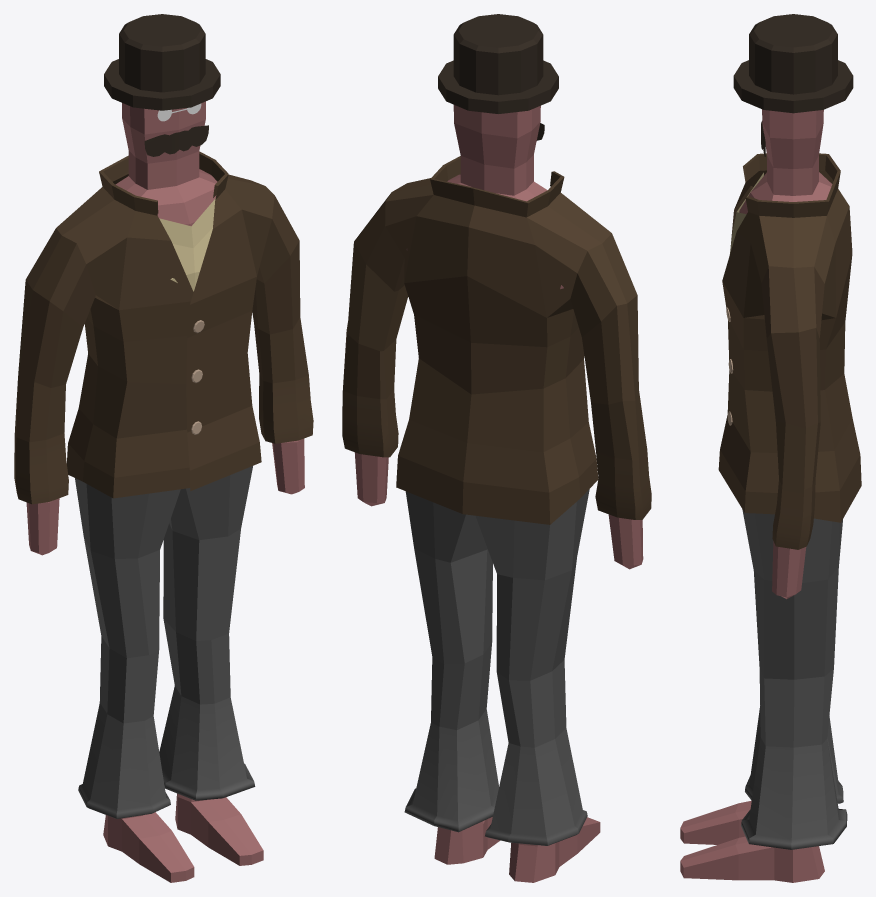
Rendered from CharacterJacketRed.fbx.
3 renders of one model, left to right at view 1: azimuth 30°, elevation 25°; view 2: azimuth 150°, elevation 25°; view 3: azimuth 270°, elevation 25°, orthographic. The views are drawn at different scales.
Visible parts, largest first — view 1: Jacket1, Pants1, BaseMesh1, Hat1, Shirt1, pPlane1; view 2: Jacket1, Pants1, BaseMesh1, Hat1; view 3: Jacket1, Pants1, BaseMesh1, Hat1.
Part boxes in pixels (left/top/right/bottom): Jacket1: left=14, top=151, right=313, bottom=504; Pants1: left=75, top=466, right=255, bottom=818; BaseMesh1: left=26, top=101, right=304, bottom=882; Hat1: left=104, top=14, right=220, bottom=110; Shirt1: left=159, top=198, right=215, bottom=291; pPlane1: left=144, top=125, right=208, bottom=156; Jacket1: left=342, top=156, right=651, bottom=524; Pants1: left=404, top=489, right=589, bottom=845; BaseMesh1: left=354, top=105, right=643, bottom=882; Hat1: left=438, top=14, right=558, bottom=113; Jacket1: left=718, top=153, right=861, bottom=549; Pants1: left=741, top=509, right=847, bottom=849; BaseMesh1: left=680, top=109, right=832, bottom=882; Hat1: left=733, top=14, right=853, bottom=113.
Size of the model in its own units: 2.19 by 5.81 by 1.16.
